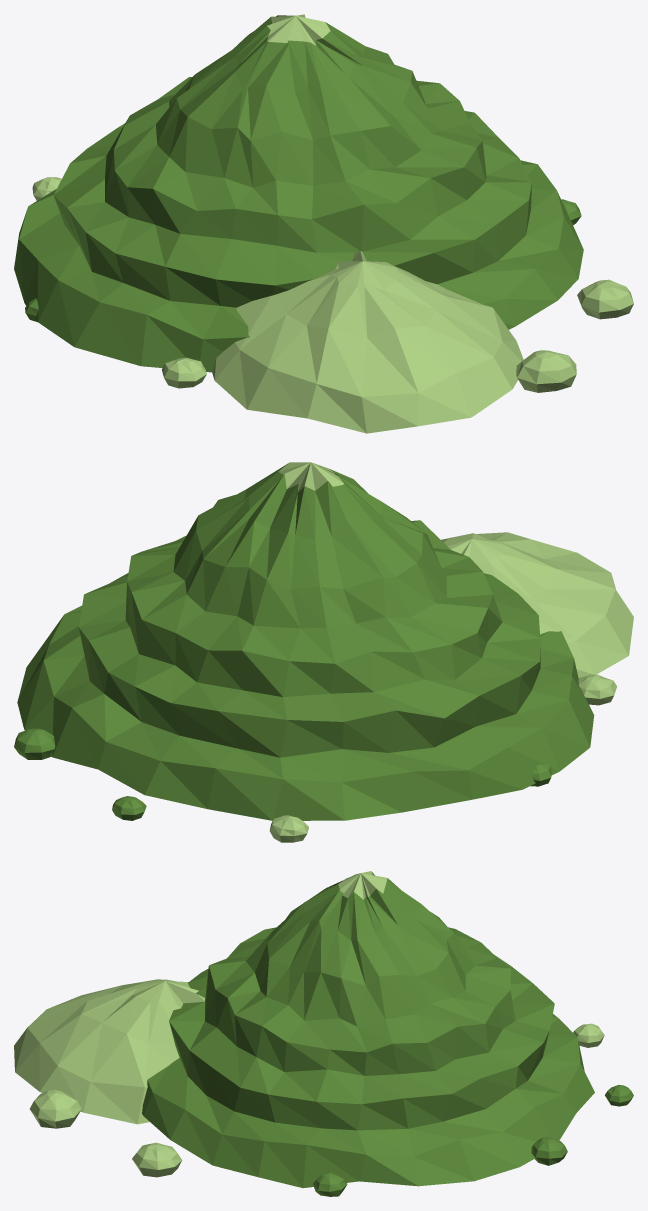
File: matcha.glb
3 views of the same model, one above another, from view 1: azimuth 30°, elevation 25°; view 2: azimuth 150°, elevation 25°; view 3: azimuth 270°, elevation 25° (orthographic). The views are drawn at different scales.
Size of the model in its own units: 1.31 by 0.6188 by 1.58.
